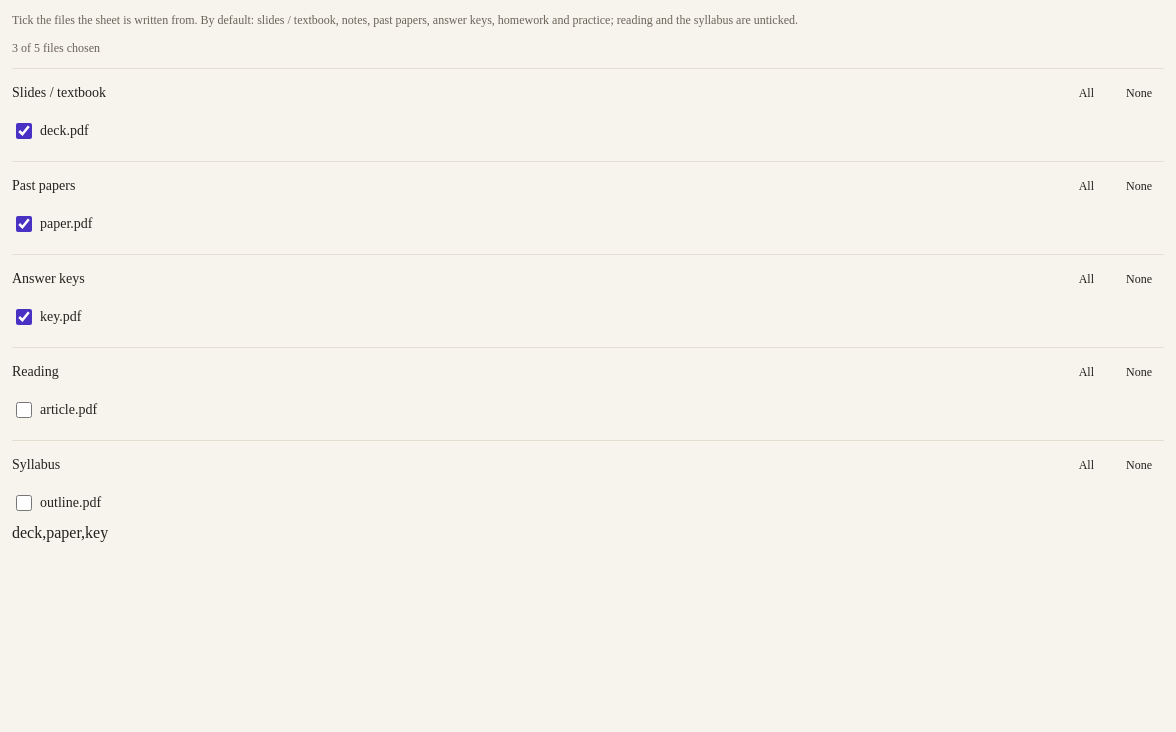
Test: ReviewSourcePicker › groups files by role with lectures, papers and answers ticked and reading unticked
This screenshot has width=1176, height=732.
Click the checkbox labelled "article.pdf".
click(24, 410)  # box [16,402,32,418]
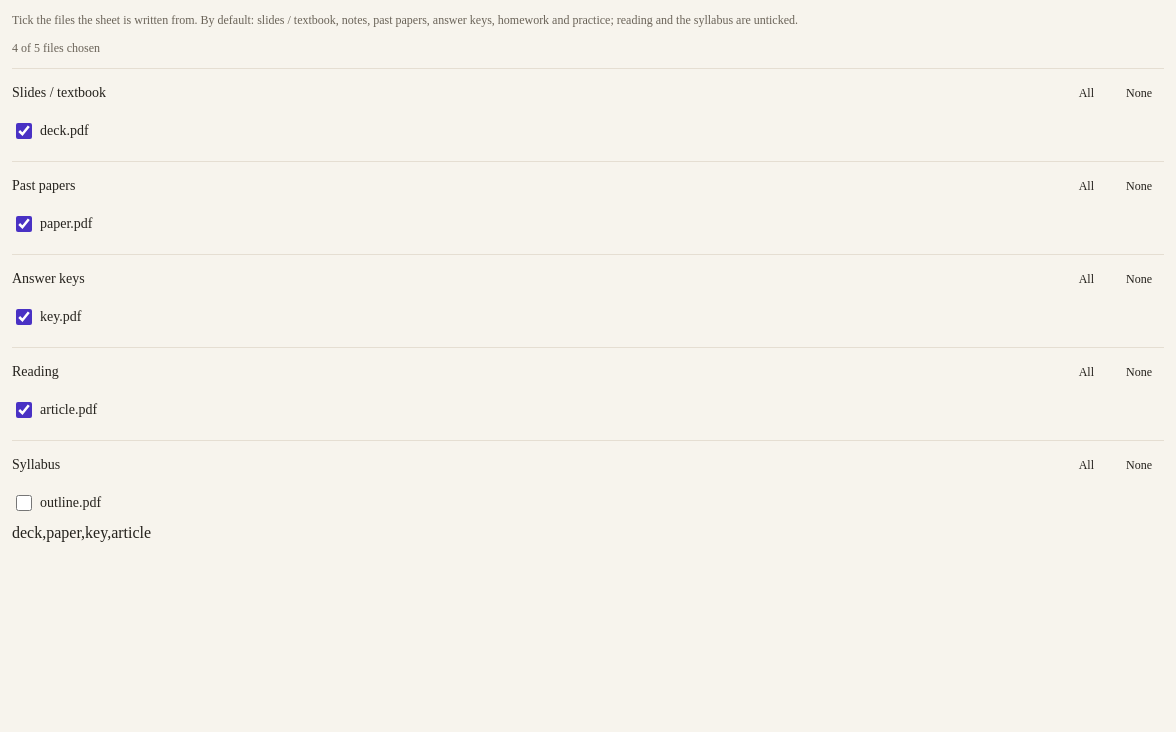
Result: the text with test id "chosen" reads "deck,paper,key,article" at [12,524,151,541]
Click the checkbox labelled "paper.pdf".
click(24, 224)  # box [16,216,32,232]
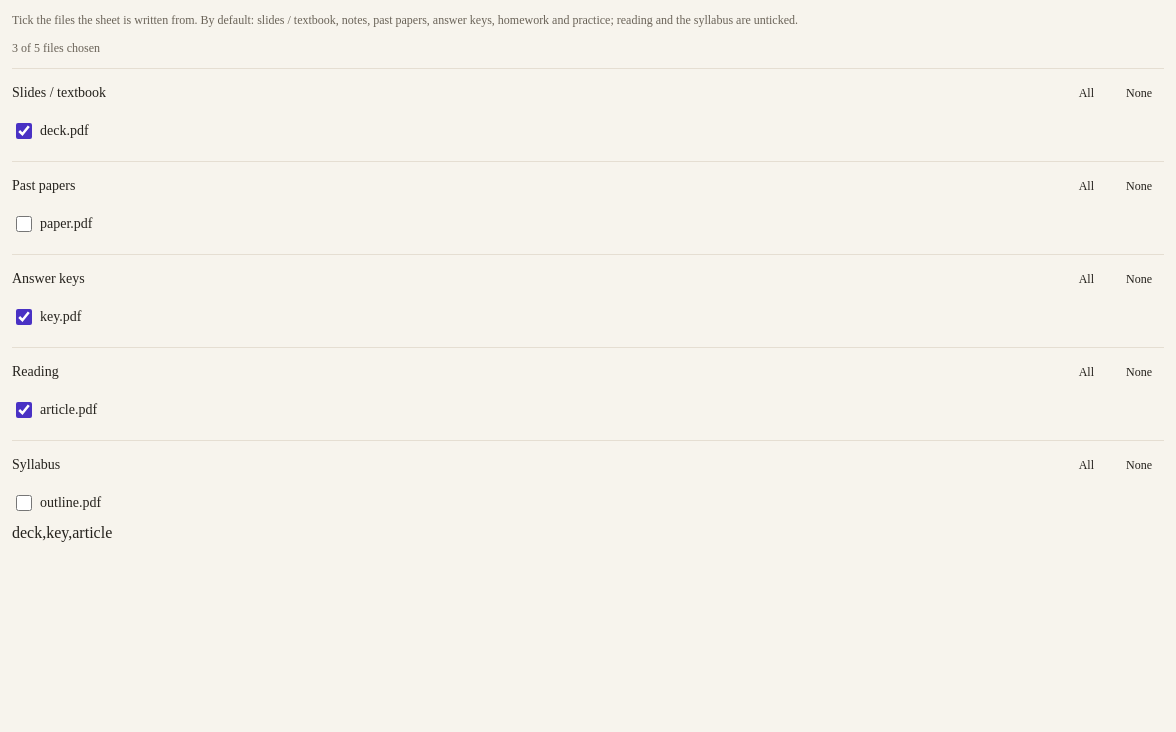
Result: the text with test id "chosen" reads "deck,key,article" at [12,524,112,541]
